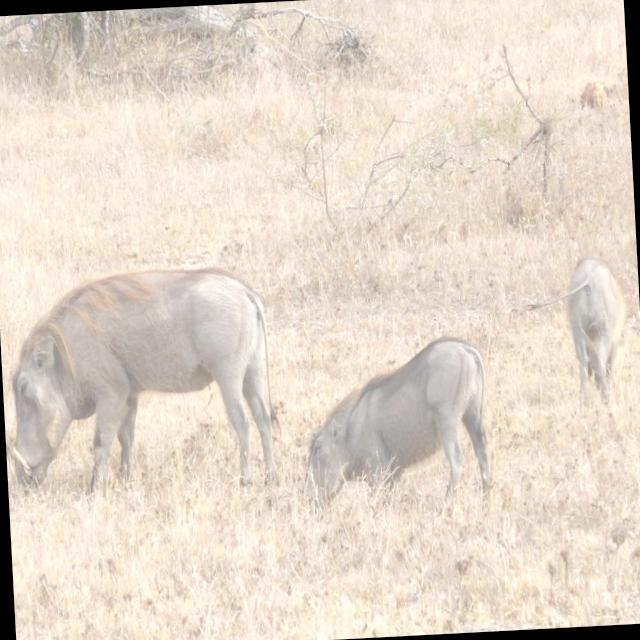pig: (13, 269, 277, 488), (305, 337, 491, 501), (567, 258, 626, 399)
